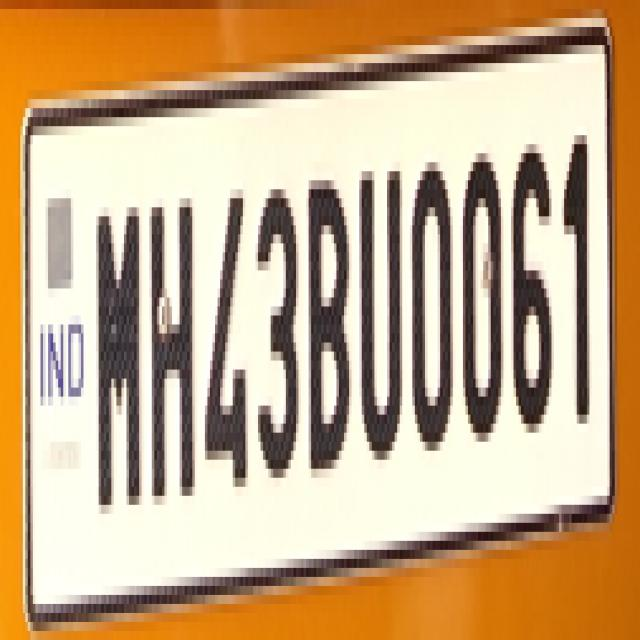0: (457, 138, 505, 457), (408, 156, 455, 463)
1: (560, 120, 600, 443)
3: (250, 174, 304, 497)
4: (202, 183, 250, 515)
6: (511, 120, 555, 436)
B: (308, 162, 356, 500)
H: (145, 167, 198, 504)
M: (92, 185, 146, 519)
U: (357, 147, 408, 466)
